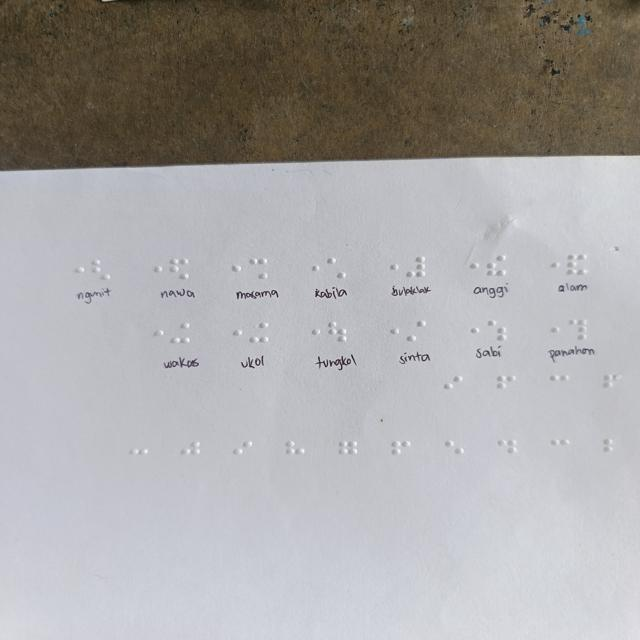alam: (568, 254, 586, 275)
anggi: (487, 256, 505, 276)
bulaklak: (407, 256, 425, 277)
dot_5: (66, 260, 85, 281), (301, 258, 320, 279), (460, 256, 479, 277), (381, 321, 400, 342), (541, 320, 560, 341), (380, 258, 399, 278), (146, 324, 165, 344), (223, 324, 242, 344), (223, 259, 241, 280), (543, 255, 561, 276), (461, 321, 479, 342), (145, 259, 163, 279), (303, 323, 321, 343)
kabila: (327, 258, 346, 279)
masama: (249, 259, 268, 280)
nawa: (170, 258, 189, 279)
ngunit: (92, 260, 111, 281)
panahon: (569, 319, 587, 340)
sabi: (488, 321, 506, 341)
sinta: (407, 321, 425, 342)
tungkol: (328, 322, 347, 343)
ukol: (249, 322, 268, 343)
wakas: (171, 322, 190, 343)
